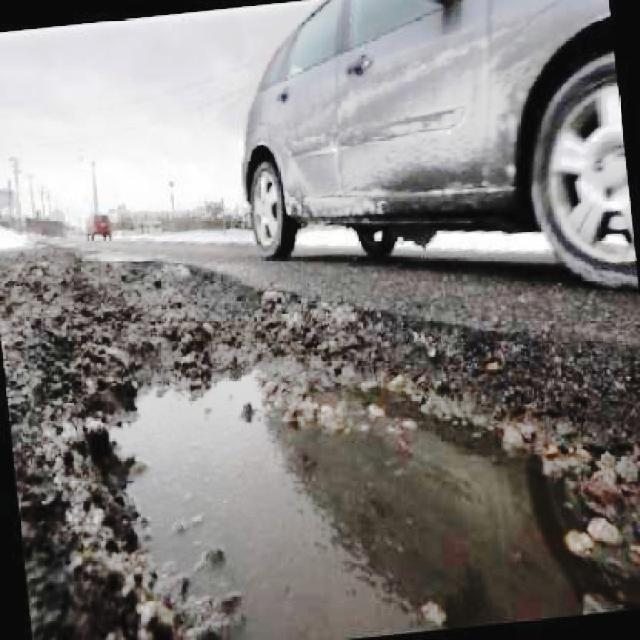pothole: (77, 323, 614, 640)
